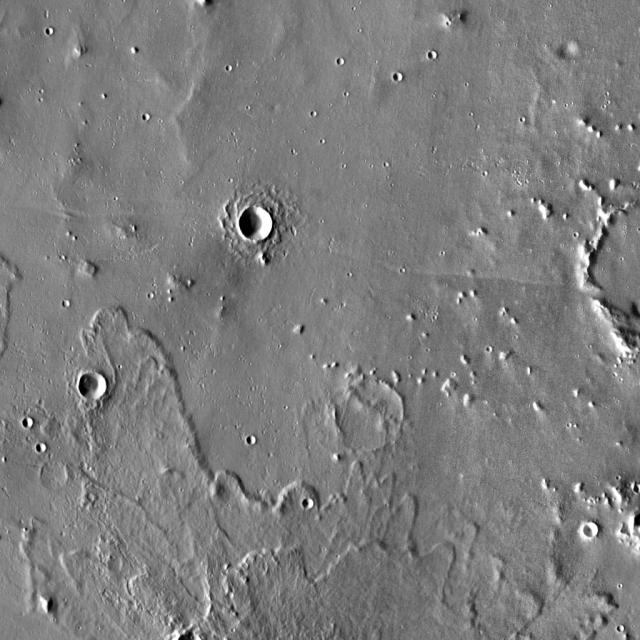crater: (336, 382, 406, 449), (240, 209, 275, 243), (41, 462, 69, 489), (82, 374, 108, 399), (560, 40, 581, 60), (582, 524, 600, 540), (304, 499, 315, 510), (394, 73, 404, 83), (38, 442, 48, 452), (25, 418, 35, 428), (429, 51, 438, 60), (248, 439, 256, 447), (332, 52, 340, 59), (612, 618, 619, 626), (631, 478, 636, 488), (42, 22, 49, 28), (138, 108, 144, 115), (220, 58, 227, 64), (142, 286, 149, 292), (58, 294, 64, 300)
